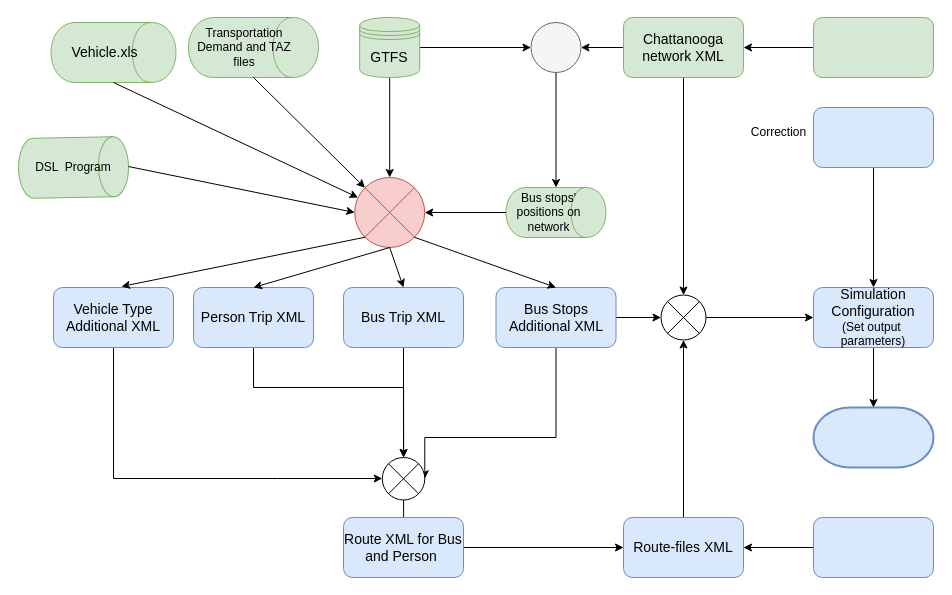
Some shapes in this 952 by 595 pixel diagram are drawn without their labels. The centre of each missing label's shape, as x and y in pixels:
"DSL Interpreter" goes at pixel 389 212.
"Edge-based dump additional XML" goes at pixel 873 137.
"network converted from OSM" goes at pixel 873 47.
"Route for Other Vehicles (car, truck)" goes at pixel 873 547.
"TraCI" goes at pixel 555 47.
"Traffic Simulation" goes at pixel 873 437.
